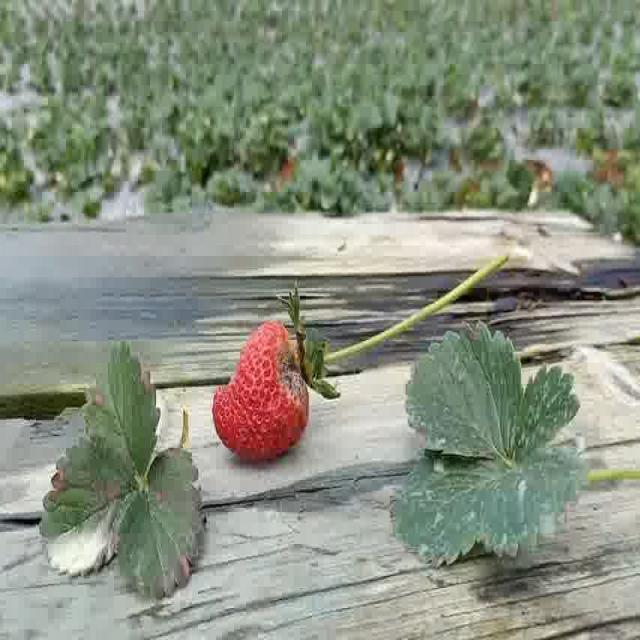Mancha negra Antracnosis: (214, 313, 310, 462)
